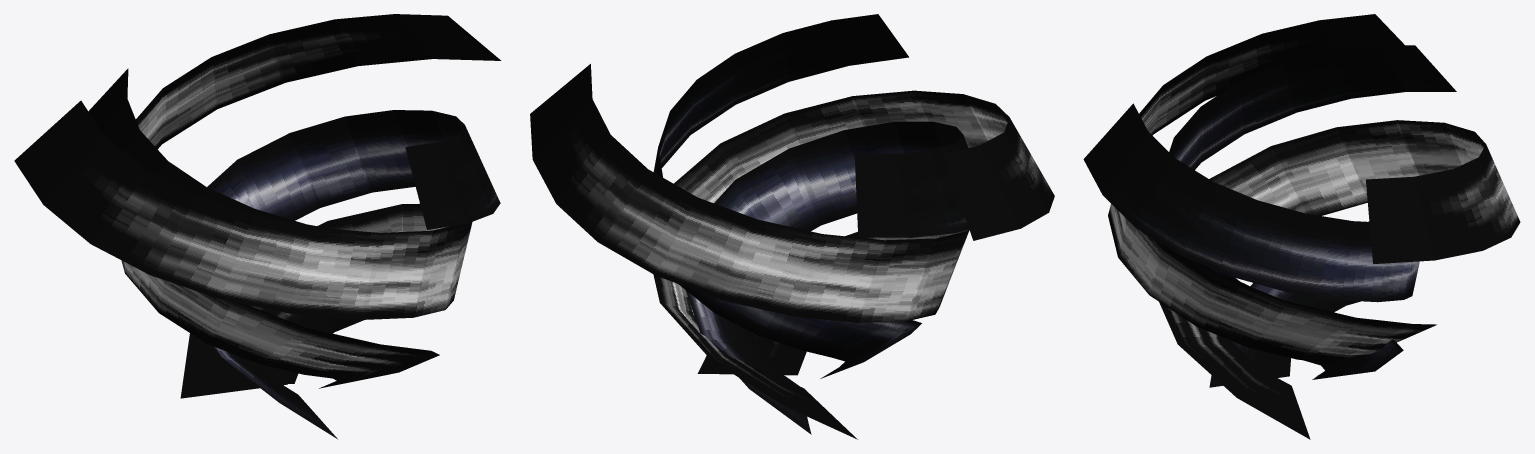
Rendered from proj_jinrang_spin_02.fbx.
3 renders of one model, left to right at view 1: azimuth 30°, elevation 25°; view 2: azimuth 150°, elevation 25°; view 3: azimuth 270°, elevation 25°, orthographic. The views are drawn at different scales.
Parts seen in each view (by area): view 1: cylinder ring 11 (1), cylinder ring 11; view 2: cylinder ring 11 (1), cylinder ring 11; view 3: cylinder ring 11 (1), cylinder ring 11.
Part boxes in pixels (x1,y1,x2,y2): cylinder ring 11 (1): (14,14,501,398); cylinder ring 11: (88,68,500,439); cylinder ring 11 (1): (530,64,1054,439); cylinder ring 11: (653,14,968,434); cylinder ring 11 (1): (1108,14,1520,439); cylinder ring 11: (1083,45,1456,387).
Bounding box in the file's own units: 3.21 × 2.03 × 2.72.
2 materials, 2 textured.
